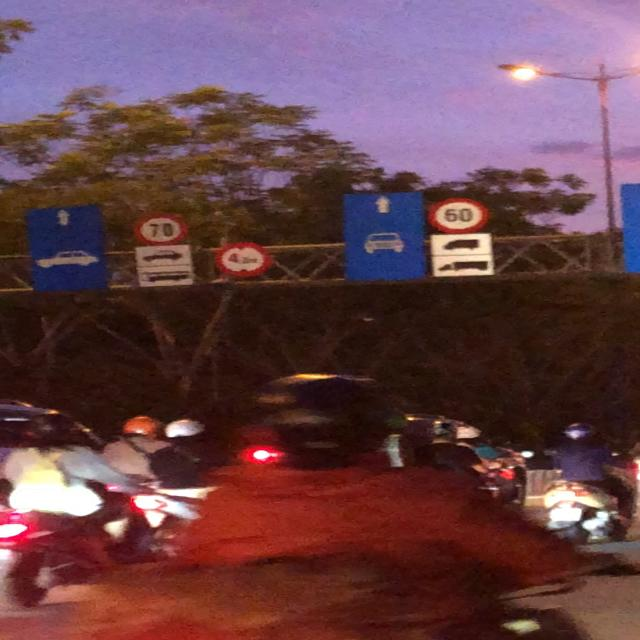Bien bao han che chieu cao: (214, 238, 276, 280)
Bien bao toc do toi da cho phep: (125, 212, 193, 251), (421, 194, 487, 234)
